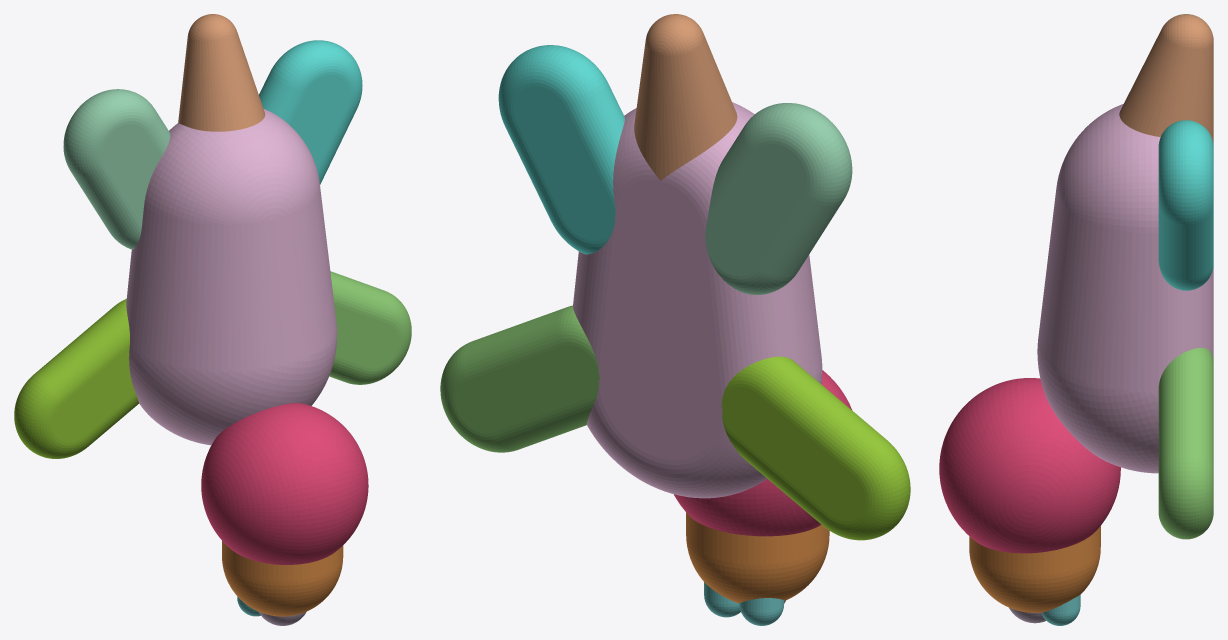
3 renders of one model, left to right at view 1: azimuth 30°, elevation 25°; view 2: azimuth 150°, elevation 25°; view 3: azimuth 270°, elevation 25°, orthographic. The views are drawn at different scales.
Parts seen in each view (by area): view 1: 00000_0.stl, 00000_2.stl, 00000_10.stl, 00000_11.stl, 00000_8.stl, 00000_1.stl, 00000_7.stl, 00000_3.stl; view 2: 00000_0.stl, 00000_10.stl, 00000_11.stl, 00000_8.stl, 00000_7.stl, 00000_1.stl, 00000_3.stl, 00000_2.stl, 00000_5.stl; view 3: 00000_0.stl, 00000_2.stl, 00000_7.stl, 00000_8.stl, 00000_1.stl, 00000_3.stl, 00000_5.stl.
Boxes of the visible parts, x1=… form: 00000_0.stl: x1=126, y1=109, x2=337, y2=445; 00000_2.stl: x1=201, y1=403, x2=368, y2=564; 00000_10.stl: x1=14, y1=299, x2=138, y2=458; 00000_11.stl: x1=63, y1=89, x2=170, y2=249; 00000_8.stl: x1=259, y1=40, x2=362, y2=184; 00000_1.stl: x1=178, y1=14, x2=265, y2=131; 00000_7.stl: x1=329, y1=271, x2=411, y2=384; 00000_3.stl: x1=222, y1=541, x2=343, y2=616; 00000_0.stl: x1=573, y1=102, x2=822, y2=498; 00000_10.stl: x1=721, y1=356, x2=910, y2=540; 00000_11.stl: x1=705, y1=103, x2=852, y2=294; 00000_8.stl: x1=498, y1=45, x2=624, y2=254; 00000_7.stl: x1=440, y1=305, x2=599, y2=452; 00000_1.stl: x1=634, y1=14, x2=737, y2=180; 00000_3.stl: x1=686, y1=512, x2=829, y2=603; 00000_2.stl: x1=674, y1=370, x2=851, y2=536; 00000_5.stl: x1=704, y1=582, x2=784, y2=625; 00000_0.stl: x1=1037, y1=104, x2=1213, y2=473; 00000_2.stl: x1=939, y1=378, x2=1120, y2=553; 00000_7.stl: x1=1158, y1=348, x2=1213, y2=539; 00000_8.stl: x1=1158, y1=120, x2=1213, y2=290; 00000_1.stl: x1=1119, y1=14, x2=1213, y2=143; 00000_3.stl: x1=969, y1=526, x2=1100, y2=612; 00000_5.stl: x1=1042, y1=595, x2=1080, y2=625.
Bounding box in the file's own units: 202 × 275 × 113.
